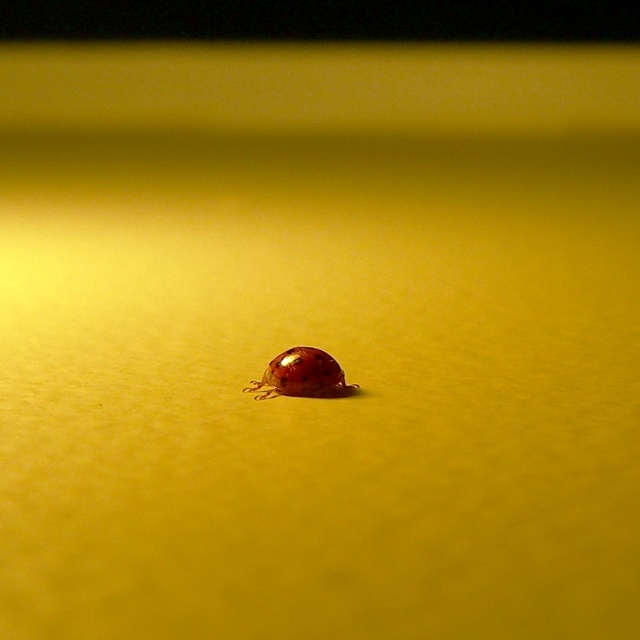Ladybug: (246, 344, 361, 402)
